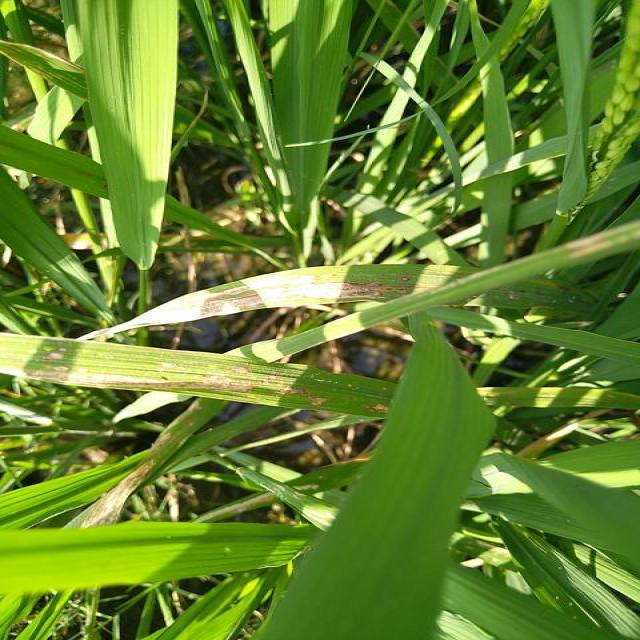Leaf Streak: (0, 333, 400, 418), (112, 264, 427, 332), (65, 399, 224, 529), (0, 40, 88, 100), (471, 279, 600, 318)
